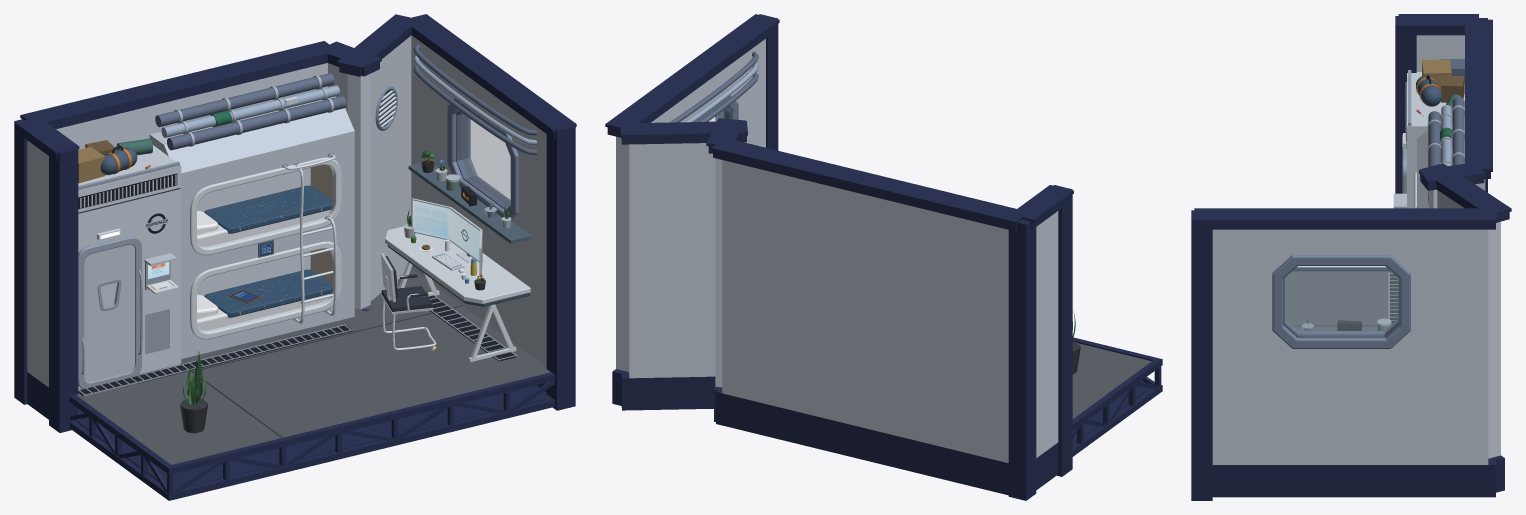
Rendered from siupspace_cabin.glb.
3 views of the same model, side by side, from view 1: azimuth 30°, elevation 25°; view 2: azimuth 150°, elevation 25°; view 3: azimuth 270°, elevation 25° (orthographic).
Parts seen in each view (by area): view 1: Cutaway_Outer_Frame, Floor_Deck, Wall_Right_Window, Bunk_Front_Bulkhead, Wall_Angled_Vent, Door_Bulkhead_Body, Wall_Back_Main, Bunk_Overhead_Pipes, Door_Leaf, Bunk_Sloped_Cornice, Window_Viewport, Bunk_Upper_Pod (+24 smaller); view 2: Wall_Back_Main, Cutaway_Outer_Frame, Wall_Angled_Vent, Wall_Right_Window, Wall_Left_DoorSide, Floor_Deck, Wall_Pilaster_Step, WindowWall_Top_Pipes; view 3: Wall_Right_Window, Cutaway_Outer_Frame, Window_Viewport, Floor_Deck, Wall_Angled_Vent, Bunk_Overhead_Pipes, Roof_Storage_Props, Door_Bulkhead_Body, Wall_Left_DoorSide, Bunk_Sloped_Cornice, Floor_Grate_Main, Door_Module.
Boxes of the visible parts, box(x1,y1,x2,y2) form: Cutaway_Outer_Frame: box(14, 14, 576, 500); Floor_Deck: box(76, 268, 550, 464); Wall_Right_Window: box(411, 35, 546, 366); Bunk_Front_Bulkhead: box(181, 134, 354, 358); Wall_Angled_Vent: box(347, 36, 411, 309); Door_Bulkhead_Body: box(78, 145, 181, 388); Wall_Back_Main: box(56, 63, 327, 296); Bunk_Overhead_Pipes: box(155, 73, 346, 150); Door_Leaf: box(84, 244, 134, 381); Bunk_Sloped_Cornice: box(149, 96, 354, 176); Window_Viewport: box(447, 98, 518, 220); Bunk_Upper_Pod: box(197, 165, 333, 246); Wall_Back_Main: box(722, 160, 1008, 462); Cutaway_Outer_Frame: box(605, 14, 1162, 500); Wall_Angled_Vent: box(629, 143, 715, 378); Wall_Right_Window: box(616, 39, 765, 371); Wall_Left_DoorSide: box(1036, 211, 1058, 457); Floor_Deck: box(1072, 343, 1151, 418); Wall_Pilaster_Step: box(715, 158, 722, 387); WindowWall_Top_Pipes: box(669, 51, 758, 122); Wall_Right_Window: box(1212, 229, 1488, 464); Cutaway_Outer_Frame: box(1191, 14, 1511, 500); Window_Viewport: box(1272, 255, 1410, 348); Floor_Deck: box(1284, 271, 1391, 327); Wall_Angled_Vent: box(1437, 190, 1500, 458); Bunk_Overhead_Pipes: box(1427, 97, 1464, 203); Roof_Storage_Props: box(1416, 59, 1464, 116); Door_Bulkhead_Body: box(1407, 72, 1464, 208); Wall_Left_DoorSide: box(1416, 35, 1464, 71); Bunk_Sloped_Cornice: box(1417, 118, 1464, 208); Floor_Grate_Main: box(1388, 272, 1398, 324); Door_Module: box(1403, 70, 1411, 148).
Size of the model in its own units: 4.92 by 3.14 by 3.23.
Materials: 58 (11 with a texture image).
